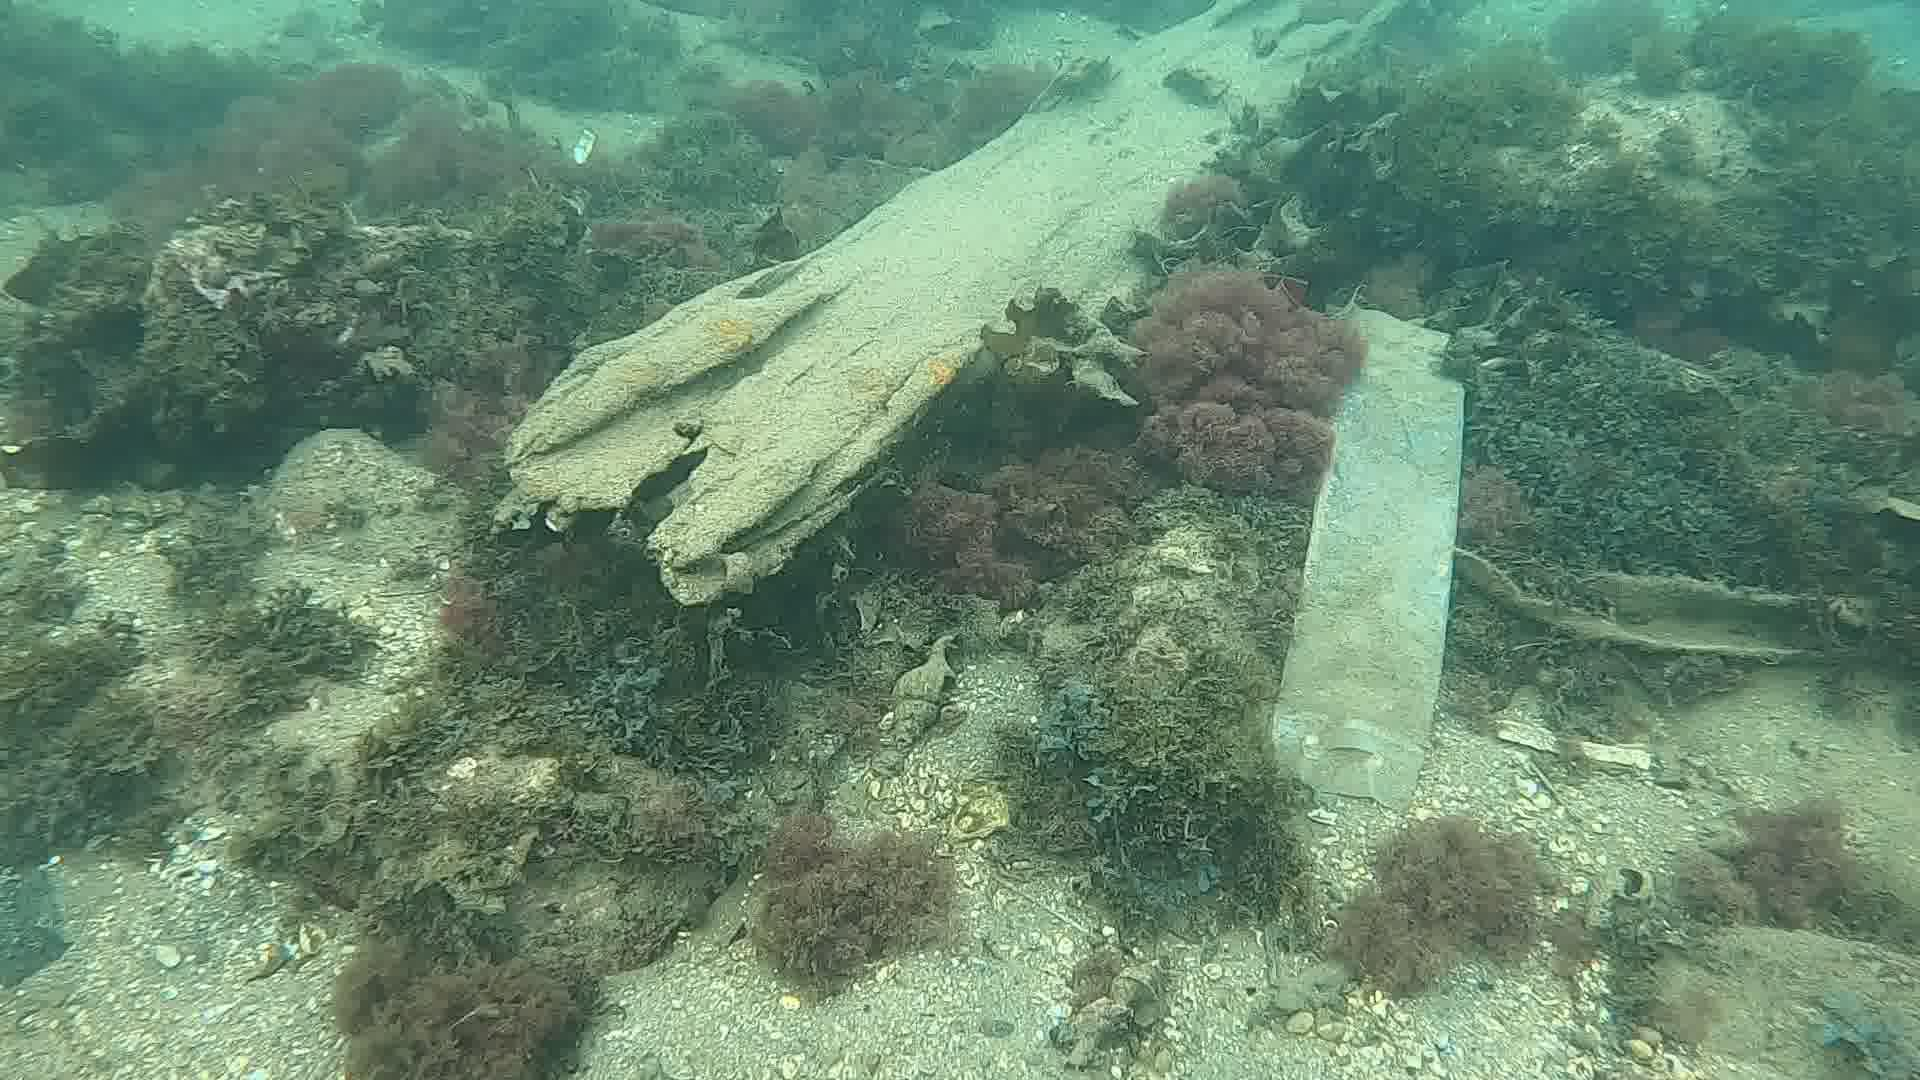wood: (485, 0, 1394, 601)
